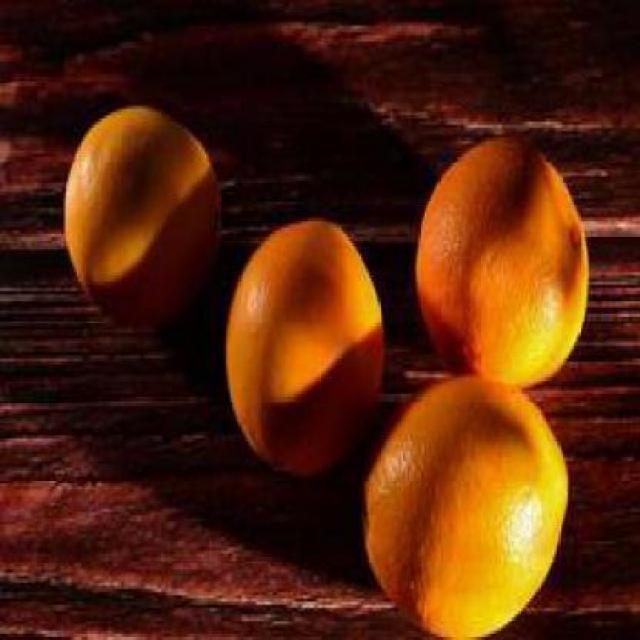Jeruk Sudah Matang: (364, 374, 572, 636), (225, 218, 386, 477), (418, 137, 587, 380), (70, 102, 218, 330)
